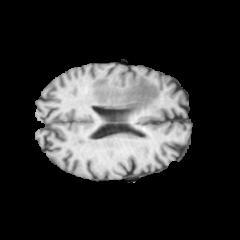glioma: (91, 74, 159, 112)
